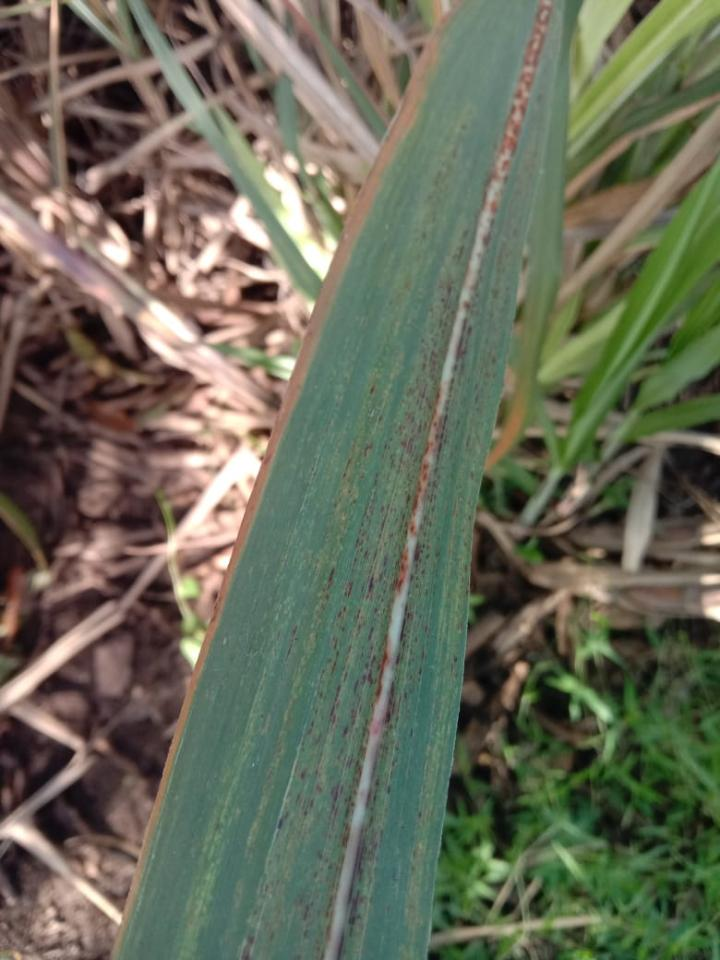RedRot: (486, 2, 555, 217), (394, 383, 450, 595), (374, 634, 393, 707), (458, 269, 478, 314), (370, 710, 385, 738)
Rust: (237, 176, 491, 959), (337, 216, 492, 959)
Yellow: (109, 0, 463, 959)
